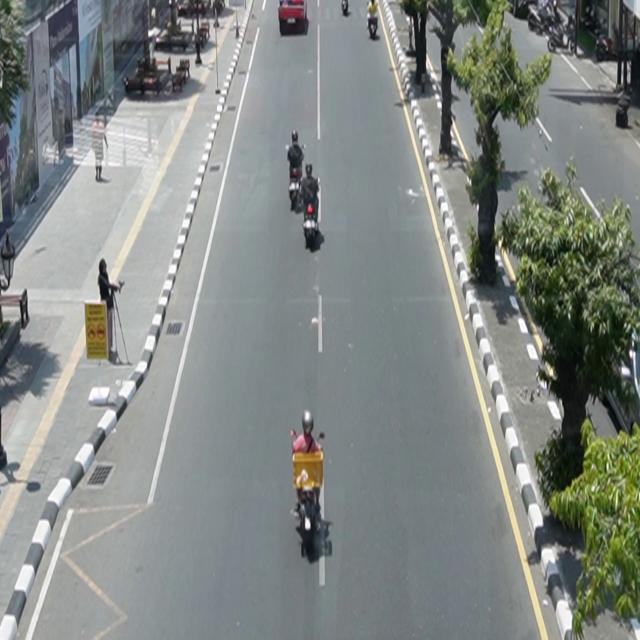car: (278, 1, 308, 35)
